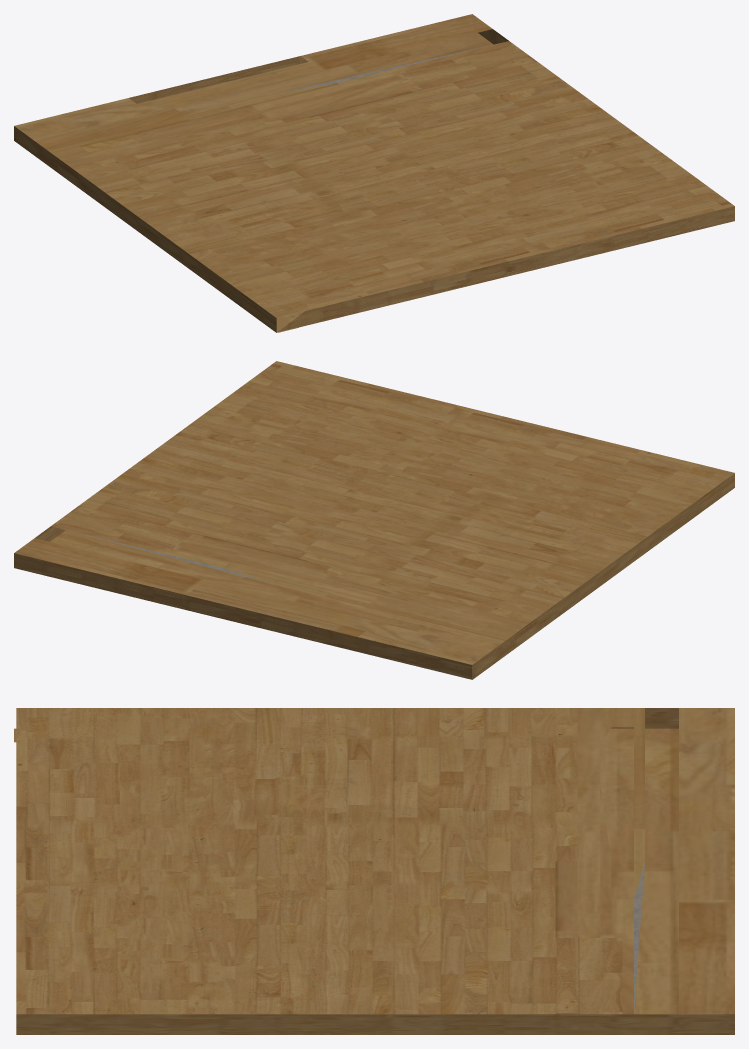
File: BaseS2.obj
3 renders of one model, top to bottom at view 1: azimuth 30°, elevation 25°; view 2: azimuth 150°, elevation 25°; view 3: azimuth 270°, elevation 25°, orthographic. The views are drawn at different scales.
Visible parts, largest first — view 1: BaseS2; view 2: BaseS2; view 3: BaseS2.
Part boxes in pixels (bbox=[...]): BaseS2: bbox=[14, 14, 734, 332]; BaseS2: bbox=[14, 361, 734, 679]; BaseS2: bbox=[14, 708, 734, 1034].
Bounding box in the file's own units: 16.02 × 0.4974 × 15.94.
Materials: 2 (2 with a texture image).
